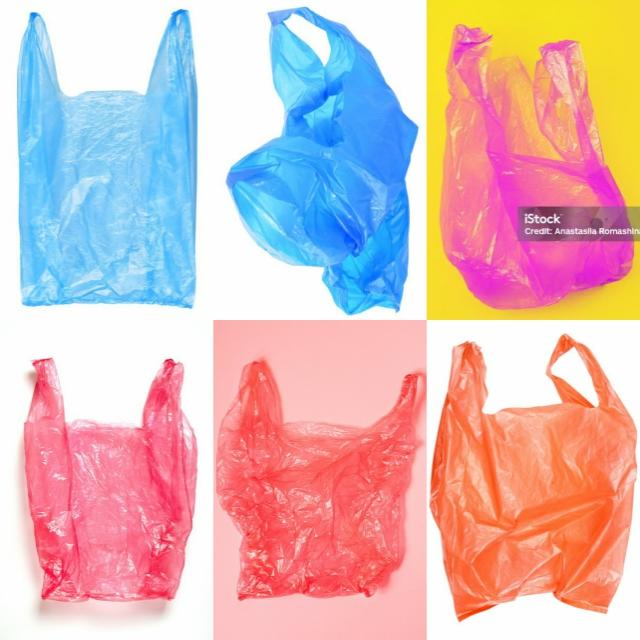Single-layer Plastic: (430, 335, 636, 619), (228, 8, 418, 314), (440, 25, 635, 308), (18, 10, 198, 307), (216, 361, 424, 599), (25, 360, 196, 601)
